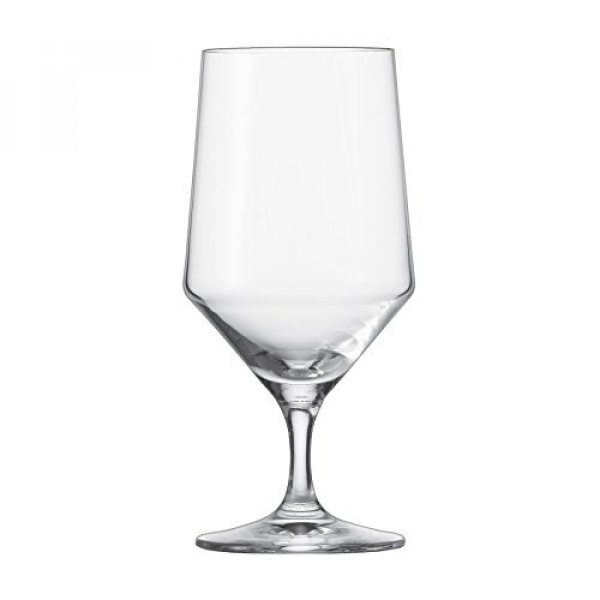glass of water: (186, 44, 414, 568)
